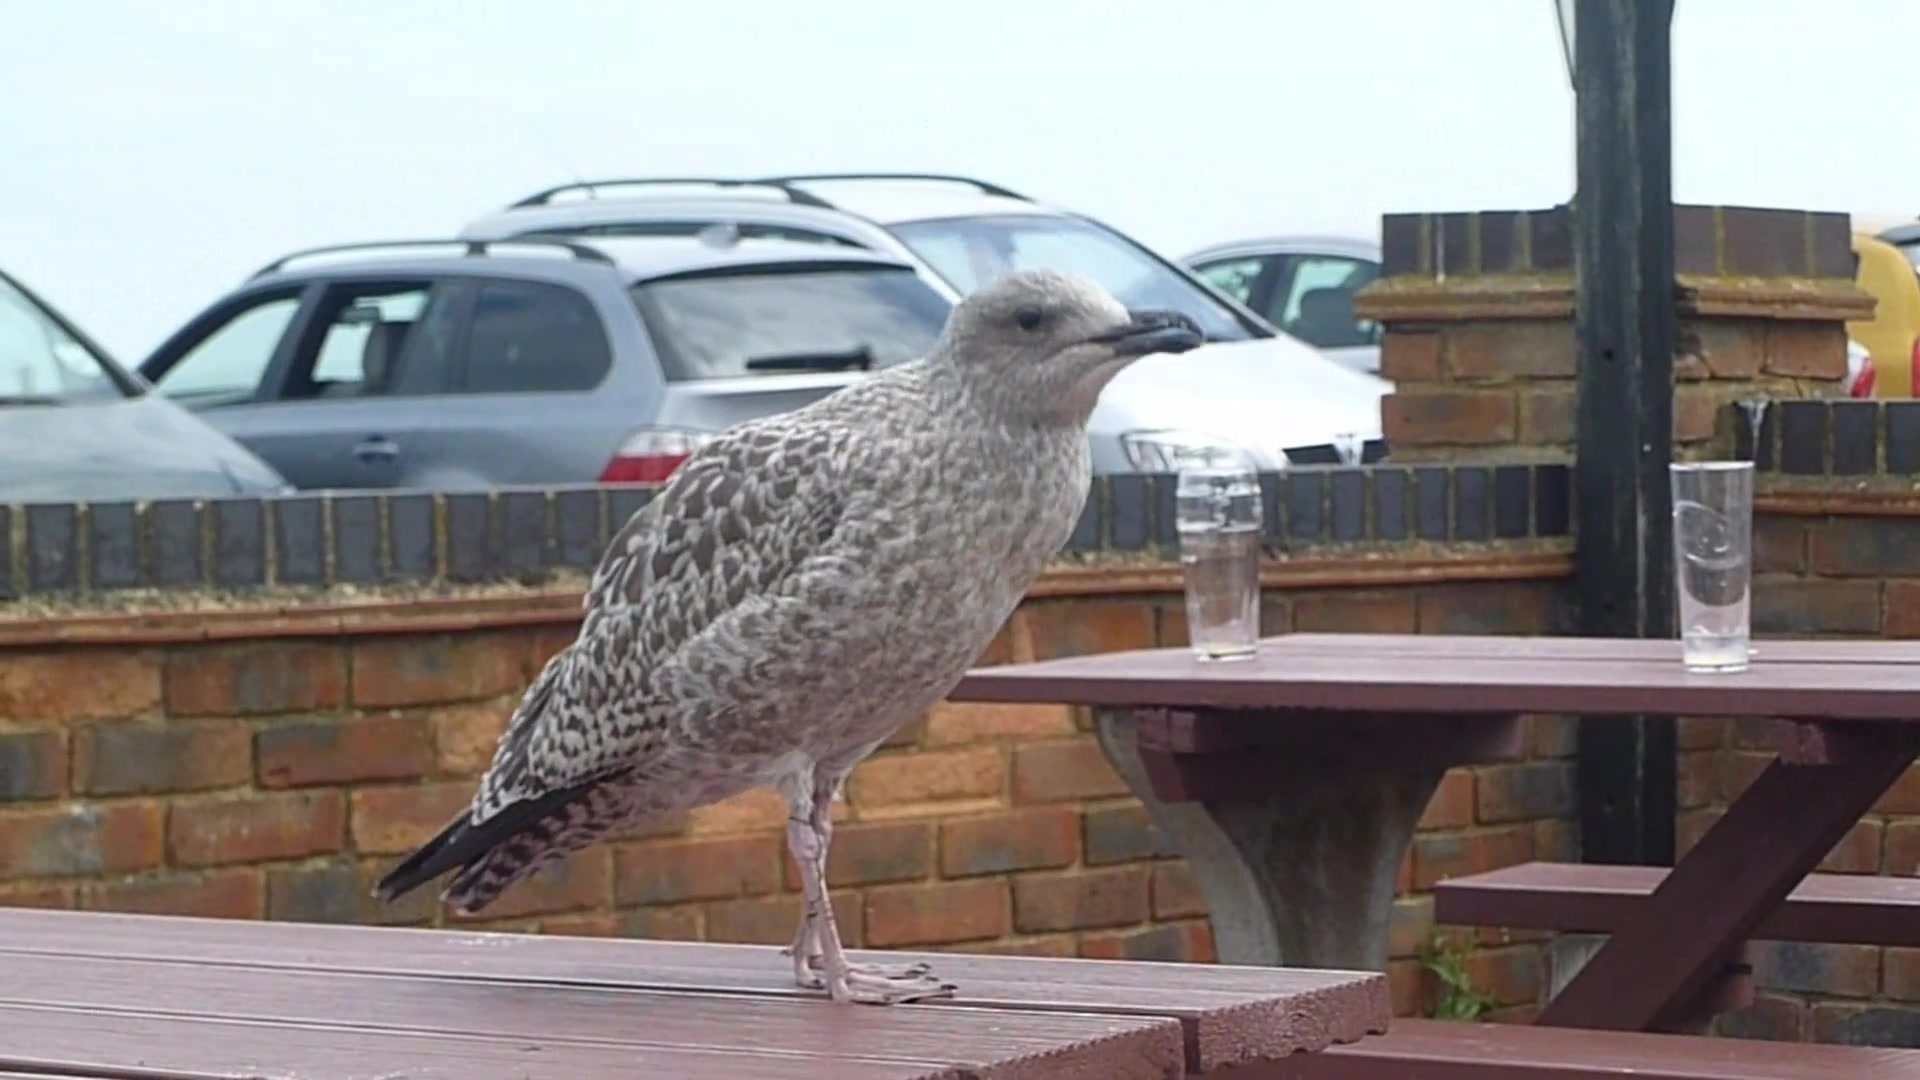bird: (373, 270, 1207, 1014)
